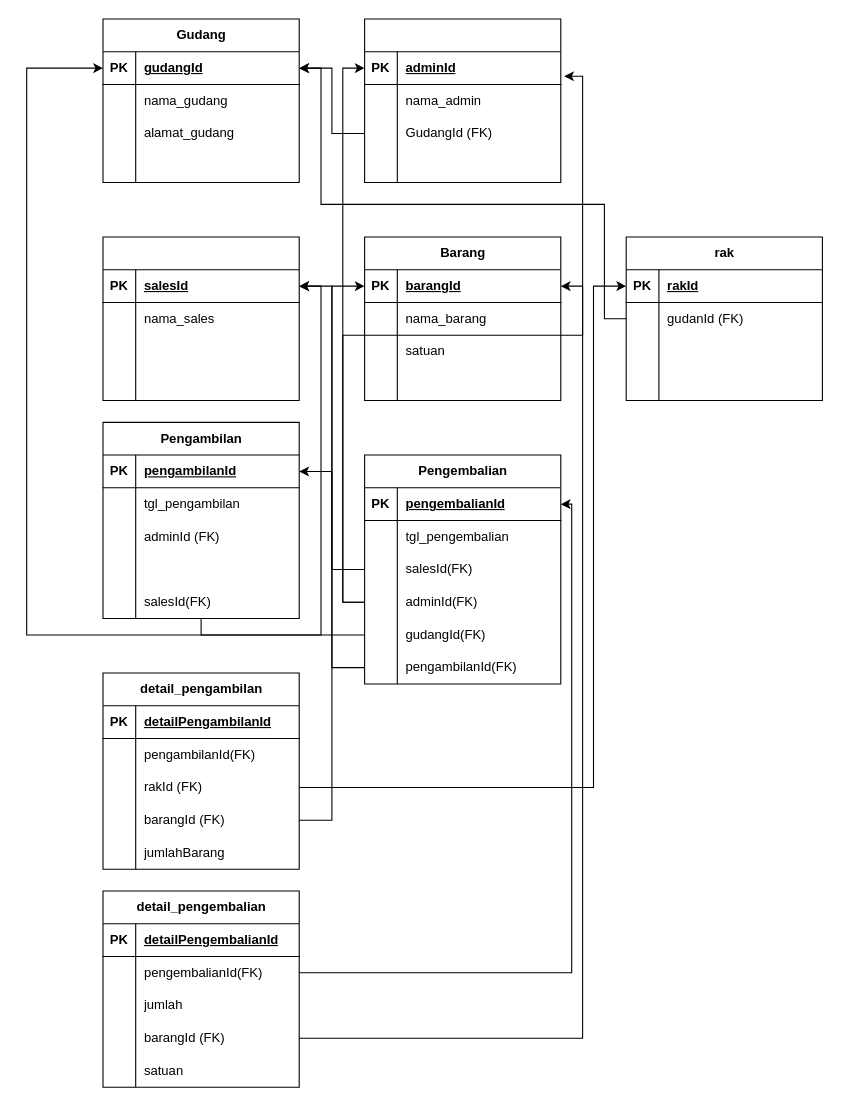
Some shapes in this 841 by 1106 pixel diagram are drawn without their labels. Each missing label, with the box of its shape:
AdminGudang: (364, 18, 561, 183)
Salesman: (102, 236, 299, 401)
